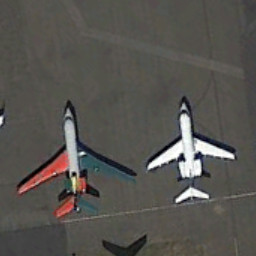Airplane: (12, 99, 140, 227), (143, 87, 246, 212)
